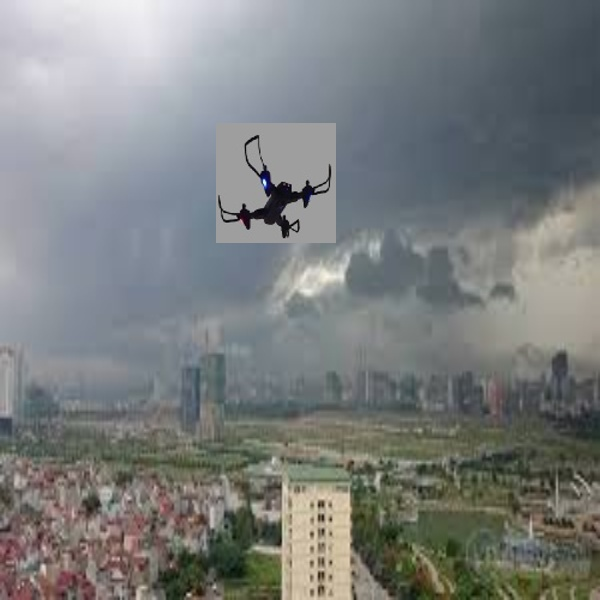drone: (216, 123, 338, 237)
